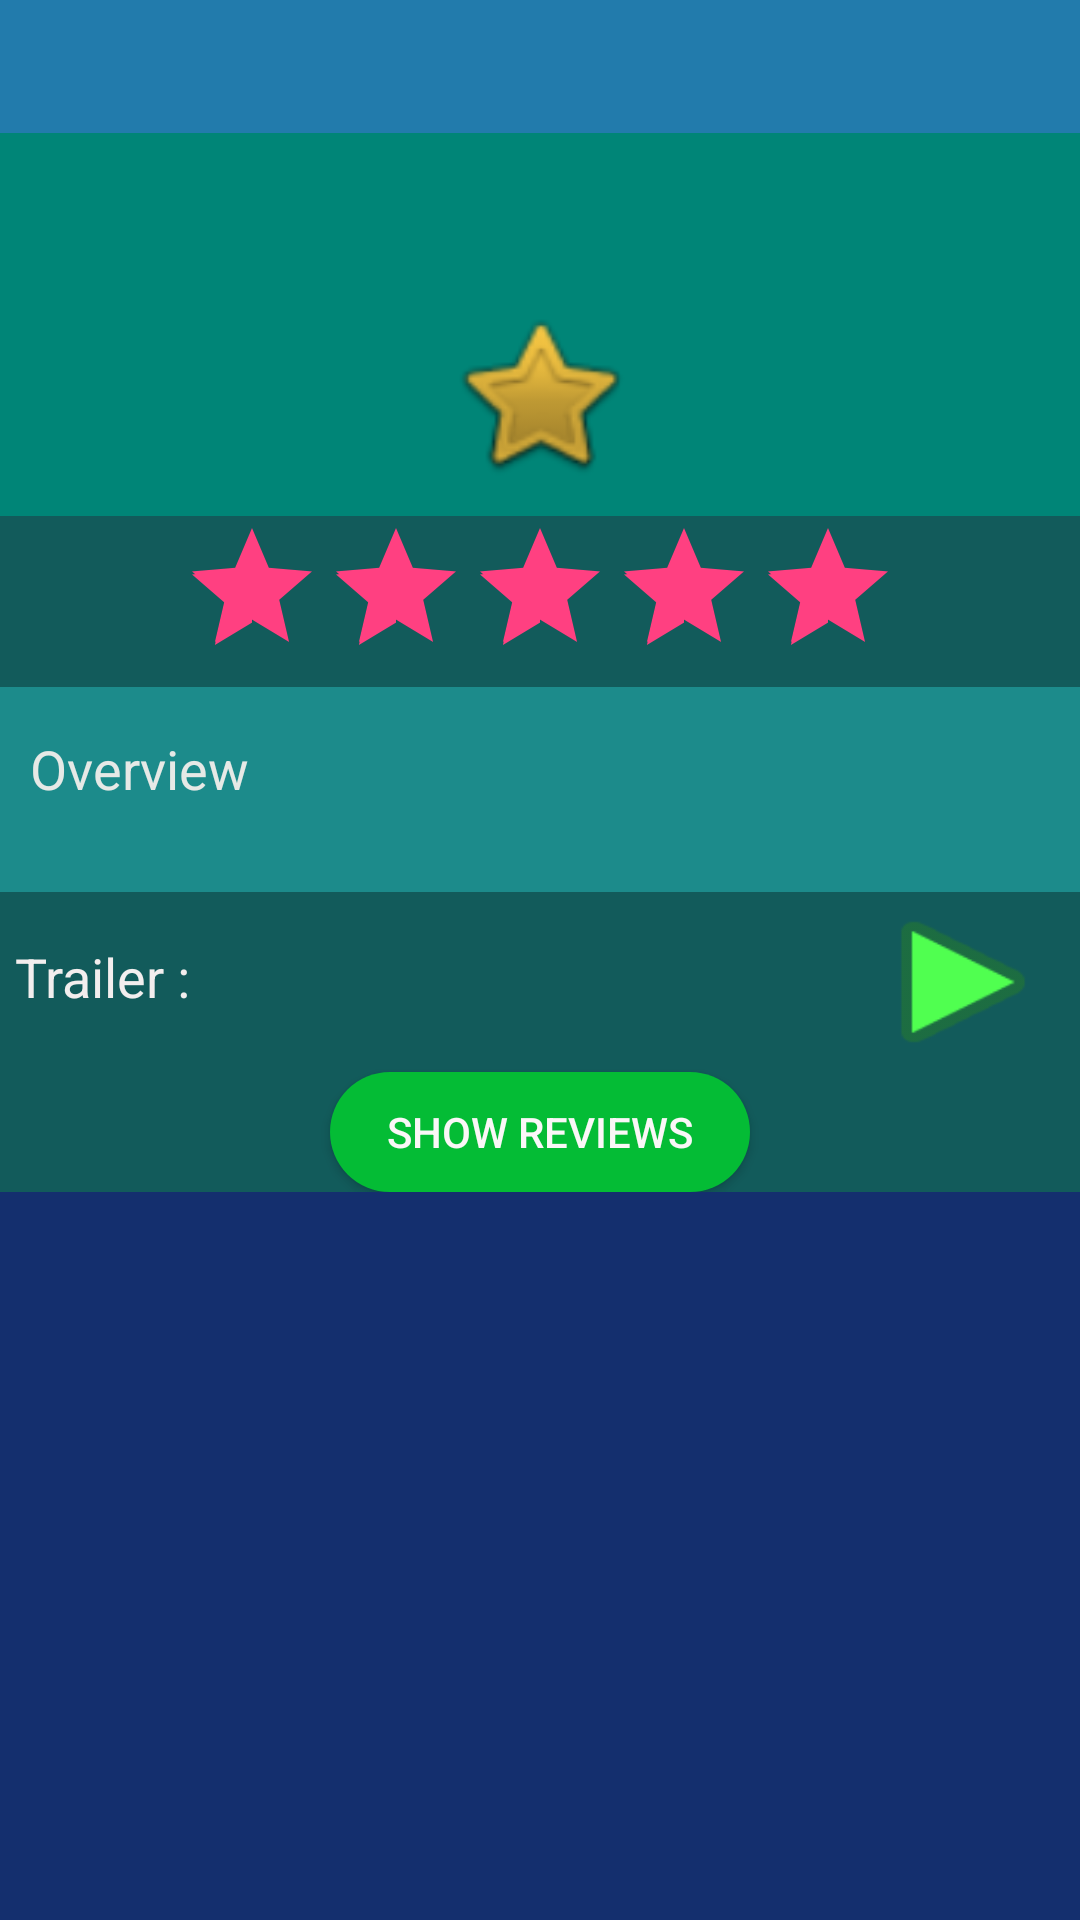

Point at icon controls on the screen. Image size 1080x1920, points as point (x, y).
play: point (963, 982)
